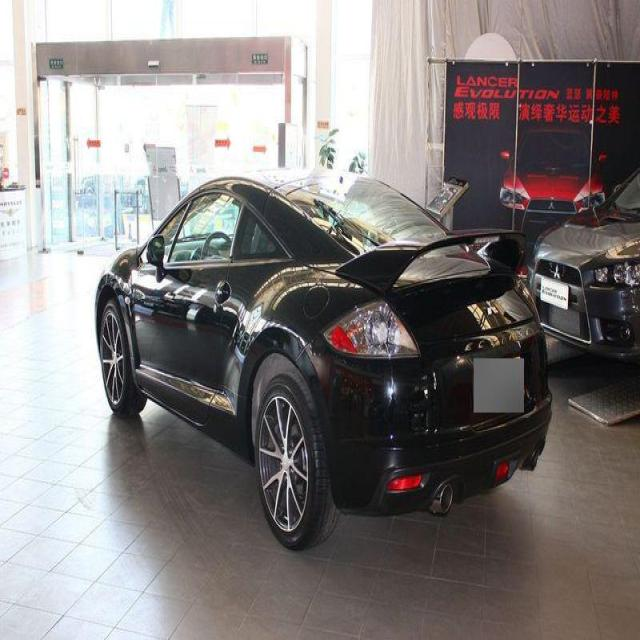back_glass: (282, 176, 458, 259)
back_left_side_light: (322, 296, 422, 361)
front_left_side_door: (132, 184, 243, 426)
front_left_side_mirror: (146, 234, 166, 278)
rear_bumper: (298, 320, 550, 514)
wheel: (254, 373, 327, 550), (100, 299, 142, 414)
